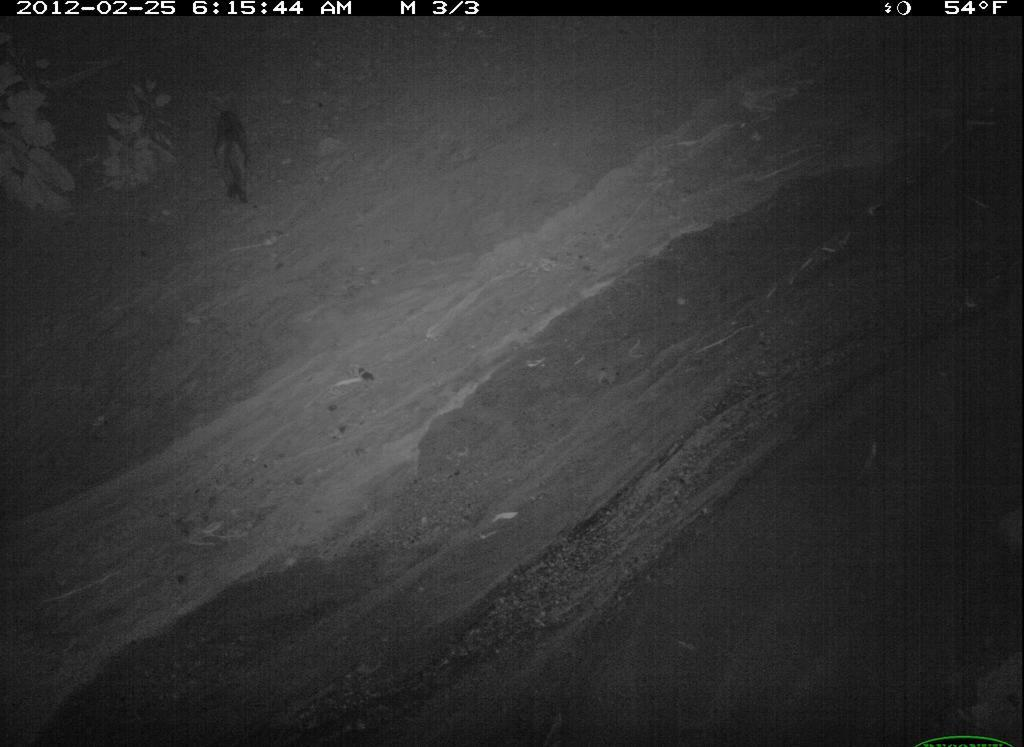cat: (414, 205, 512, 416)
